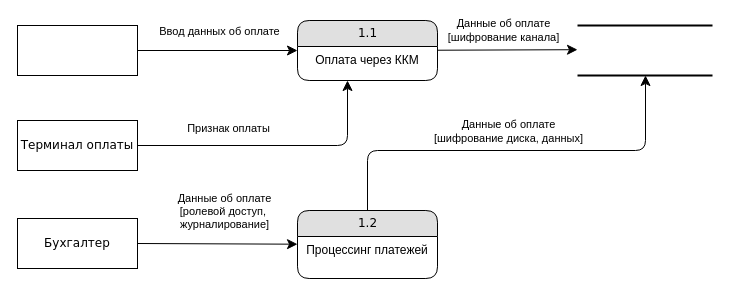
The diagram is 731 pixels wide and 297 high, and some of its shapes have lost their labels. The shapes that lost their labels are listed below. From the top down, each one's box as (x1, y1, x2, y2) in pixels, then its label:
(16, 24, 138, 76): Кассир
(576, 24, 713, 76): 1C: Бухгалтерия
